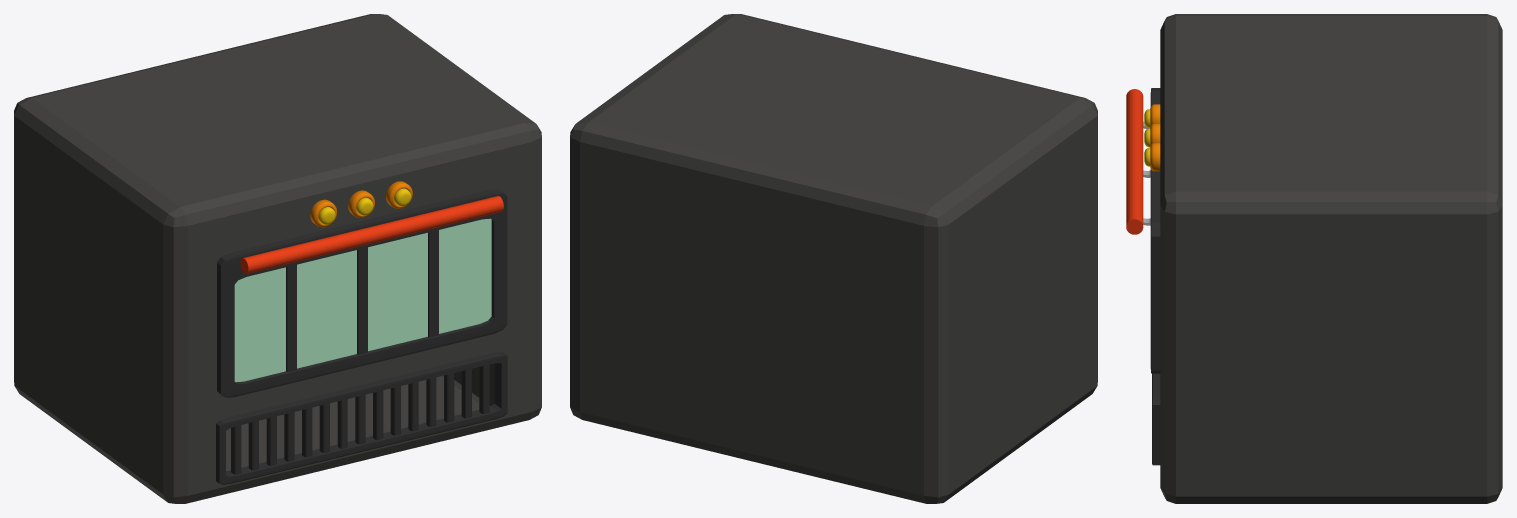
The model's file is ovenL.fbx.
3 renders of one model, left to right at view 1: azimuth 30°, elevation 25°; view 2: azimuth 150°, elevation 25°; view 3: azimuth 270°, elevation 25°, orthographic. The views are drawn at different scales.
Visible parts, largest first — view 1: Cube, Cube.003, Cube.002, Cube.001, Cylinder; view 2: Cube; view 3: Cube, Cylinder, Cube.001, Cube.002.
Boxes of the visible parts, x1,y1,x2,y2 form: Cube: (14, 14, 541, 503); Cube.003: (234, 218, 491, 382); Cube.002: (216, 352, 507, 484); Cube.001: (217, 189, 507, 397); Cylinder: (240, 196, 503, 273); Cube: (570, 14, 1097, 503); Cube: (1160, 14, 1502, 503); Cylinder: (1126, 89, 1143, 234); Cube.001: (1150, 88, 1160, 373); Cube.002: (1152, 373, 1160, 465).
Bounding box in the file's own units: 800 × 600 × 660.
